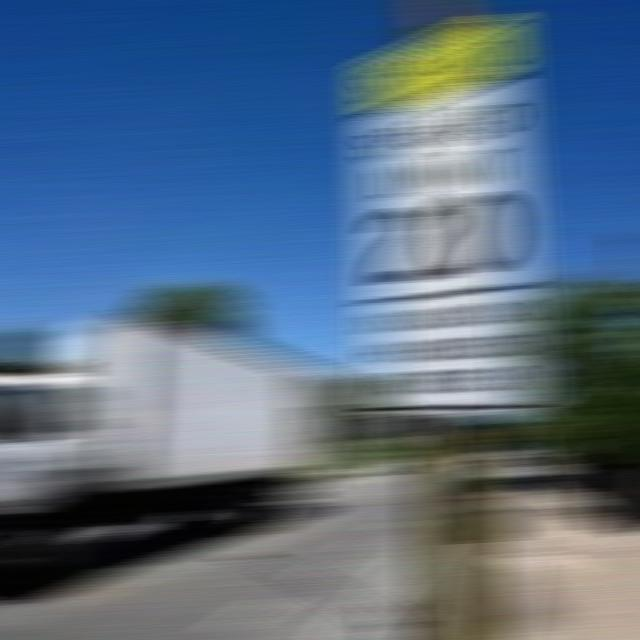speedLimit20: (364, 77, 513, 297)
